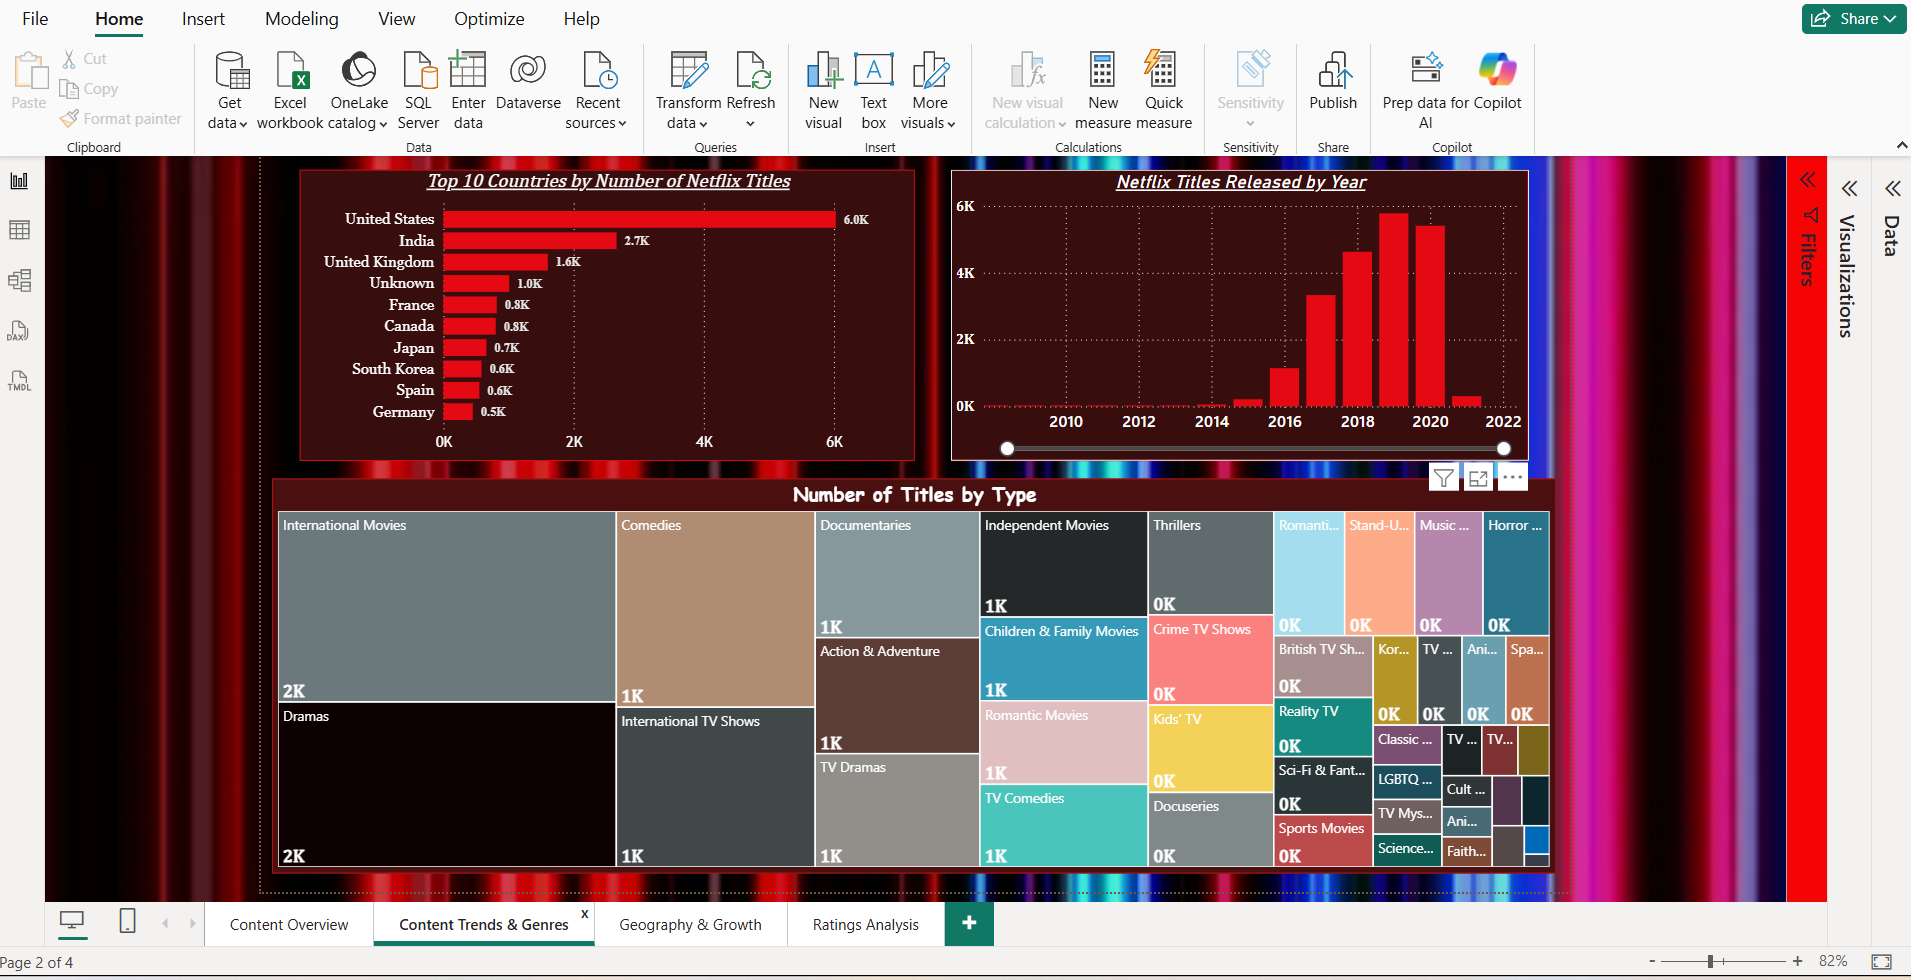

Layout of this report page (visuals, bound fields, positions):
{"tool":"powerbi","page":{"name":"Page 2","canvas":[1280,720],"ordinal":1},"visuals":[{"type":"treemap","fields":{"Values":["Measure  Table1.Number of Titles"],"Group":["Netflix Dataset.Type"]},"box":[11,315.5,1255.8,386.4],"z":0},{"type":"clusteredBarChart","title":"Top 10 Countries by Number of Netflix Titles","fields":{"Category":["Netflix Dataset.Country"],"Y":["CountNonNull(Netflix Dataset.Show_Id)"]},"box":[37.9,13.5,601.6,284.9],"z":1000},{"type":"clusteredColumnChart","title":"Netflix Titles Released by Year","fields":{"Category":["Netflix Dataset.Release Year"],"Y":["CountNonNull(Netflix Dataset.Show_Id)"]},"box":[675,13.5,564.9,284.9],"z":2000}]}

Visuals, with their boxes on the page's 1280x720 design canvas (x1, y1, x2, y2). These are canvas units, not pixel positions in the 1911x980 screenshot, which may show the page scaled, cropped or inside an application window:
treemap - Measure  Table1.Number of Titles x Netflix Dataset.Type: l=11, t=316, r=1267, b=702
"Top 10 Countries by Number of Netflix Titles" clusteredBarChart: l=38, t=14, r=640, b=298
"Netflix Titles Released by Year" clusteredColumnChart: l=675, t=14, r=1240, b=298
